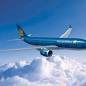maybay_dansu: (16, 26, 86, 57)
